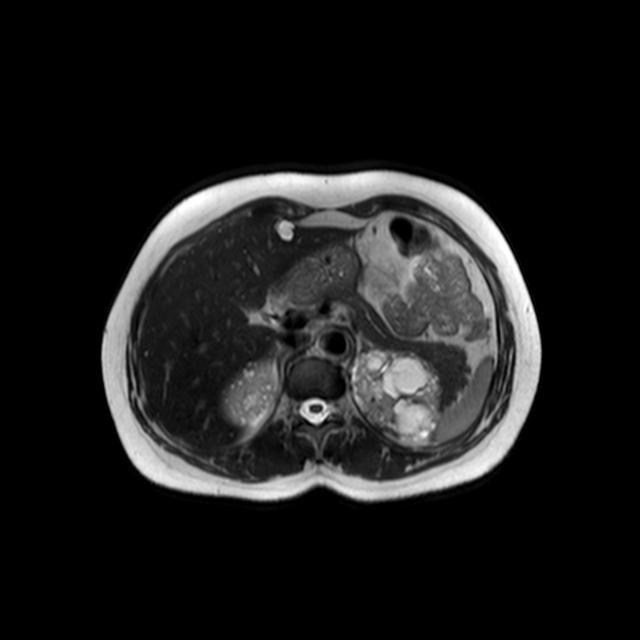sag: (220, 357, 279, 427)
sol: (350, 346, 443, 447)
